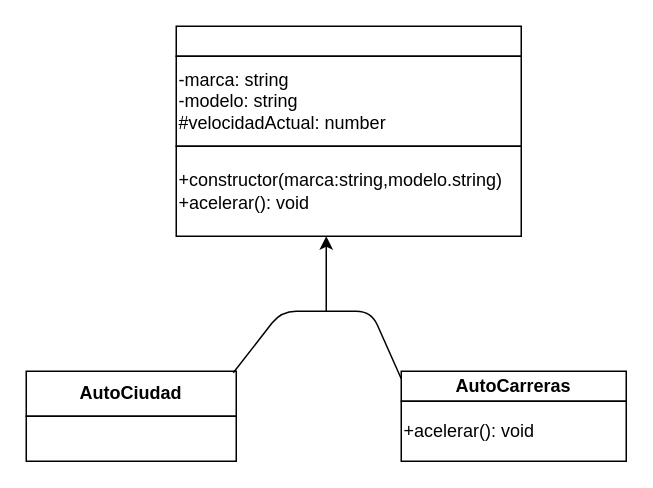
Image size: 653x488. Some labels were removed from this diagram. The shapes that lost their labels are listed below. From the top down, each one's centre as x and y in pixels, then its label:
At (x=348, y=40): "Auto".
At (x=130, y=438): "+acelerar():void".
